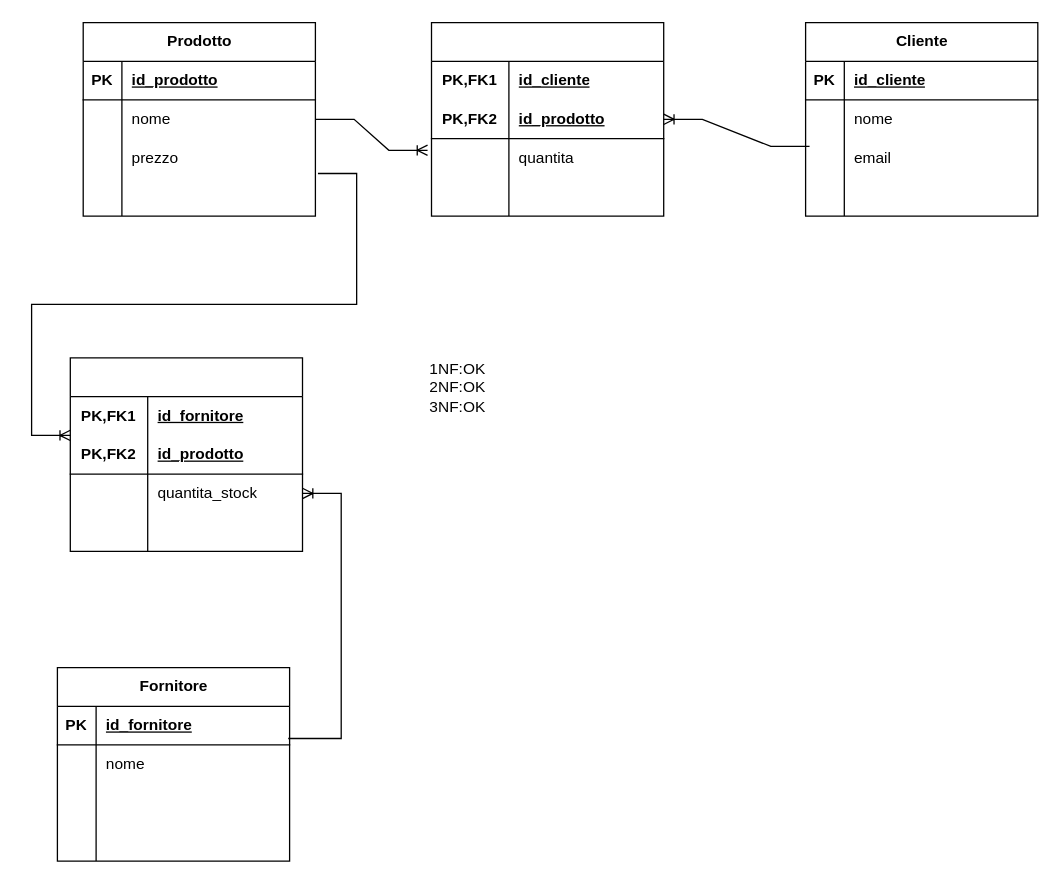
The diagram is 1060 pixels wide and 884 high, and some of its shapes have lost their labels. Here are the shapes that lost their labels. From the top down, the box of each, then its label:
(430, 21, 664, 216): Prodotto-cliente
(69, 357, 303, 551): Fornitore-prodotto
